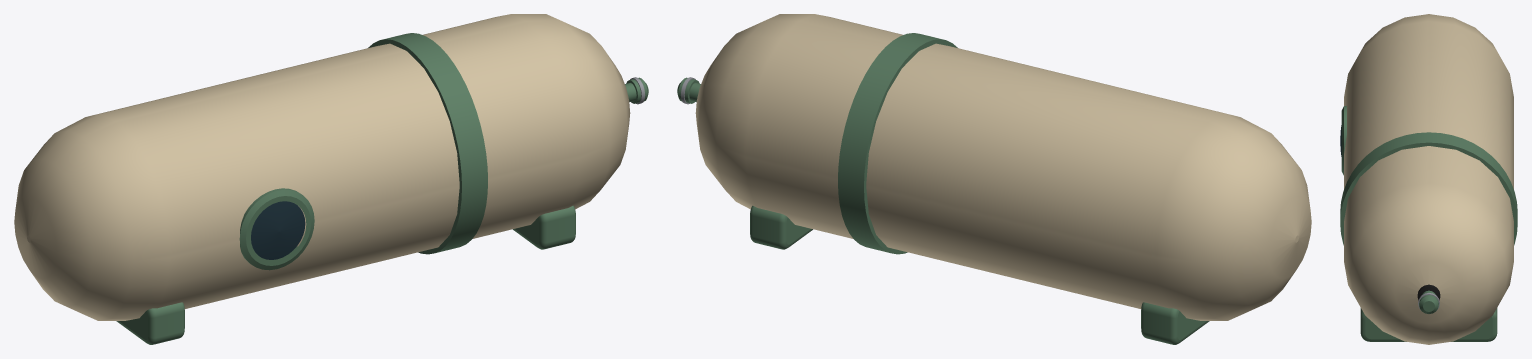
File: t60_water.obj
3 views of the same model, side by side, from view 1: azimuth 30°, elevation 25°; view 2: azimuth 150°, elevation 25°; view 3: azimuth 270°, elevation 25° (orthographic). The views are drawn at different scales.
Parts seen in each view (by area): view 1: t60_water; view 2: t60_water; view 3: t60_water.
Part boxes in pixels (left/top/right/bottom): t60_water: left=14, top=14, right=648, bottom=344; t60_water: left=677, top=14, right=1311, bottom=344; t60_water: left=1340, top=14, right=1517, bottom=344.
Size of the model in its own units: 3.78 by 1.17 by 1.17.
